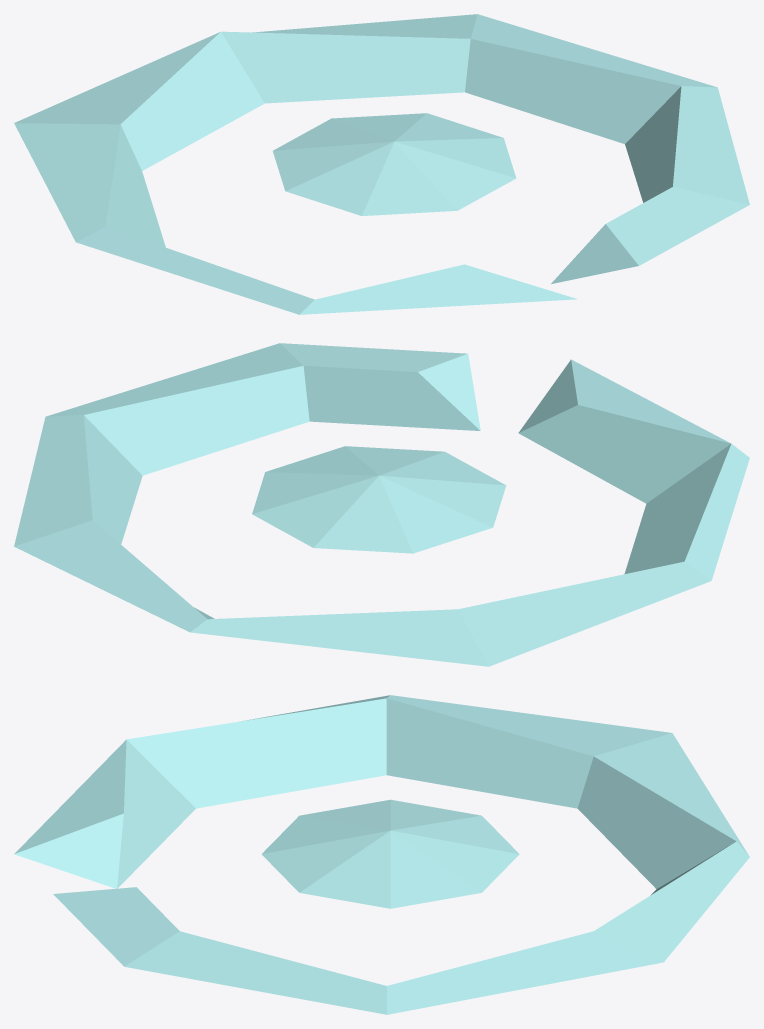
File: nature_water-wave-circle.fbx
The picture shows the model from 3 angles, top to bottom: view 1: azimuth 30°, elevation 25°; view 2: azimuth 150°, elevation 25°; view 3: azimuth 270°, elevation 25°; orthographic projection. The views are drawn at different scales.
Visible parts, largest first — view 1: nature_water_wave_circle; view 2: nature_water_wave_circle; view 3: nature_water_wave_circle.
Part boxes in pixels (box(x1,y1,x2,y2)): nature_water_wave_circle: box(14, 14, 749, 314); nature_water_wave_circle: box(14, 343, 749, 666); nature_water_wave_circle: box(14, 695, 749, 1014).
Size of the model in its own units: 200 by 17.07 by 195.
